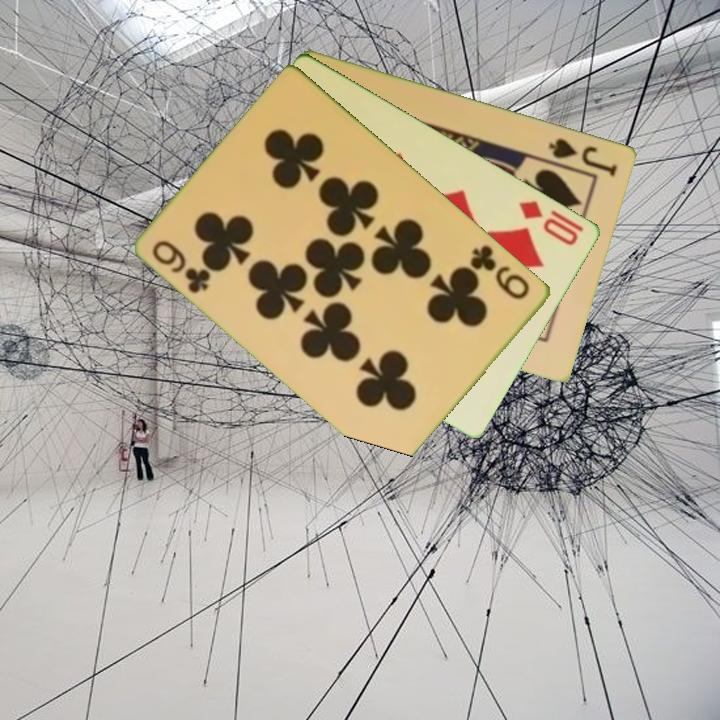10d: (516, 196, 587, 249)
9c: (467, 241, 533, 303), (149, 236, 215, 297)
Js: (546, 134, 621, 179)
